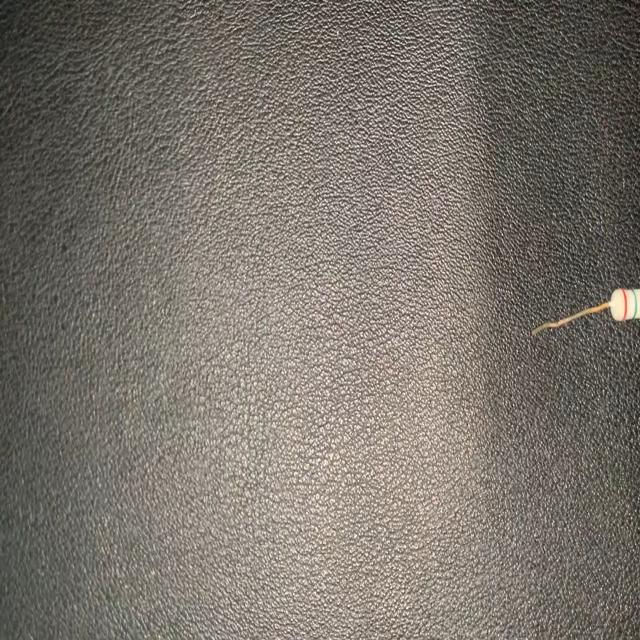resistor: (533, 287, 640, 334)
